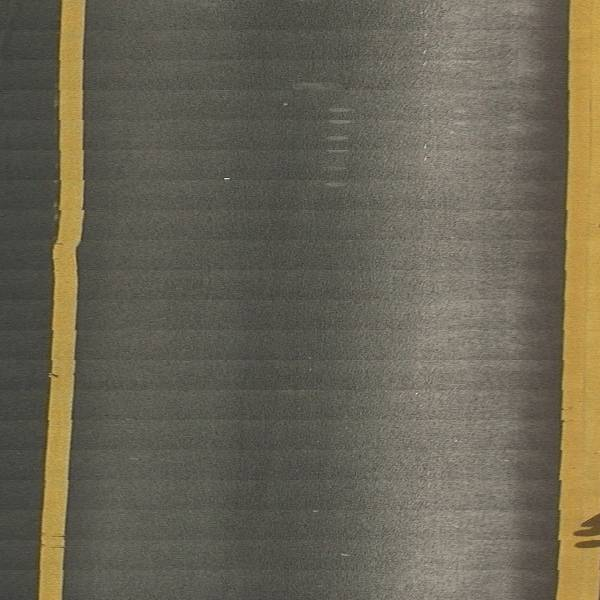road_damage: (321, 103, 358, 195)
